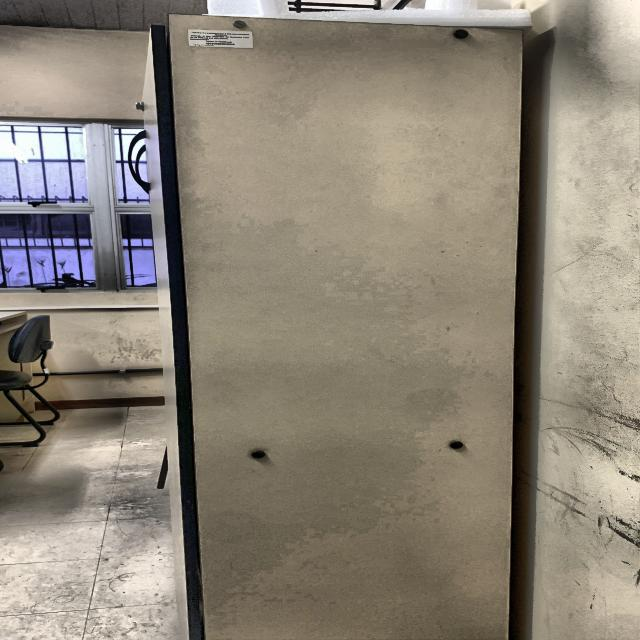cadeira: (0, 314, 60, 448)
